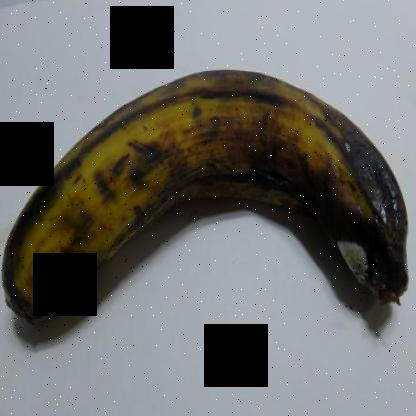overripe: (0, 54, 415, 361)
rotten: (291, 111, 415, 317)
